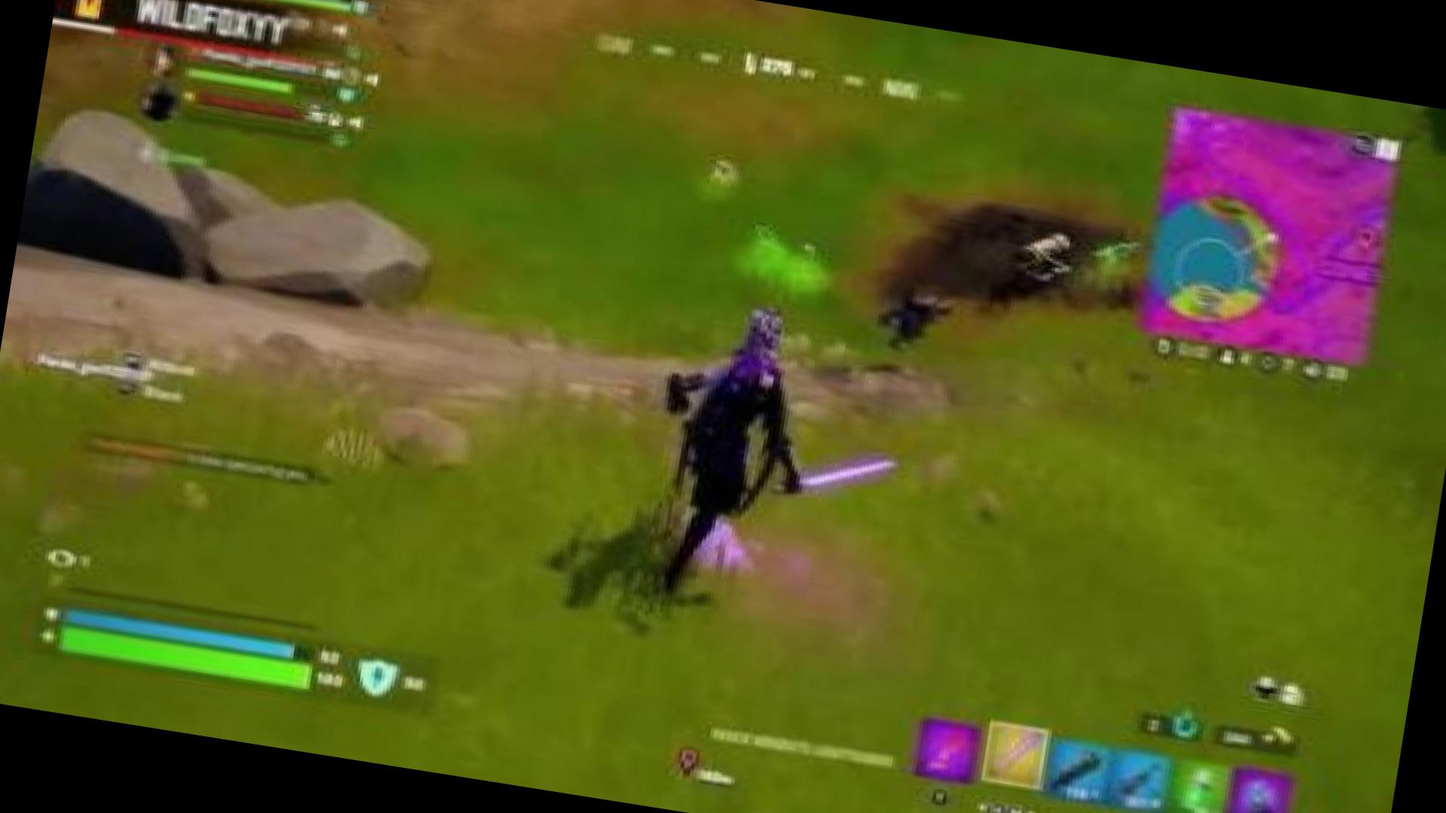player: (653, 311, 876, 621)
